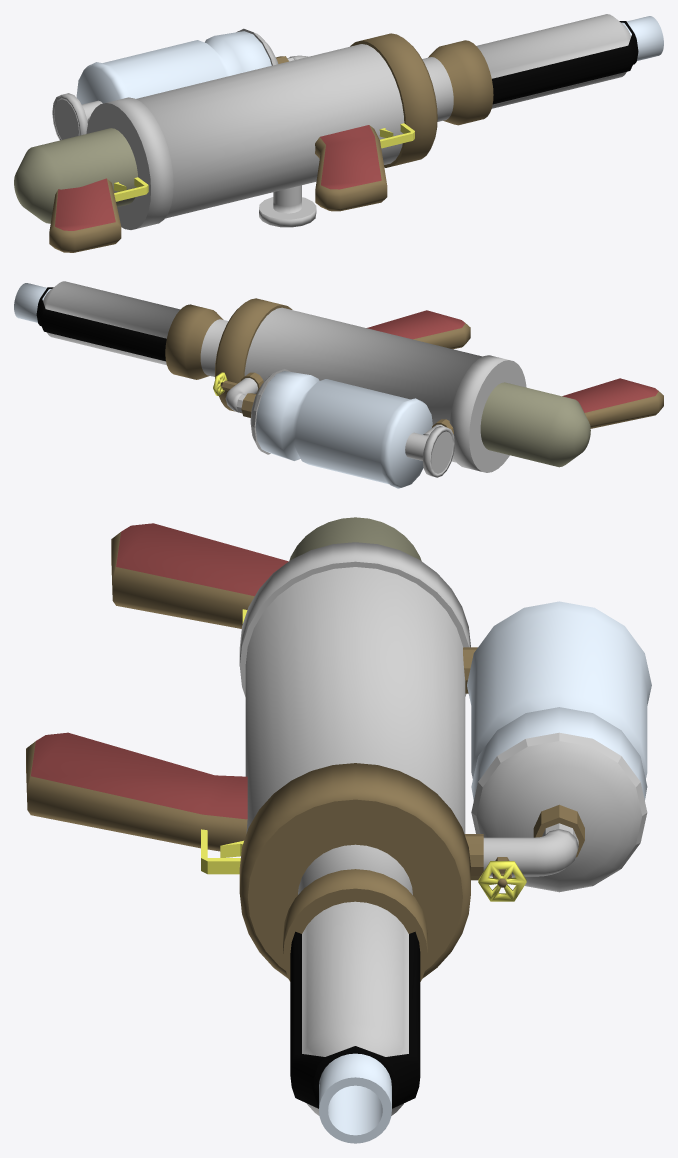
The model's file is flamethrower_.obj.
The picture shows the model from 3 angles, top to bottom: view 1: azimuth 30°, elevation 25°; view 2: azimuth 150°, elevation 25°; view 3: azimuth 270°, elevation 25°; orthographic projection. The views are drawn at different scales.
Parts seen in each view (by area): view 1: Circle.001, Circle.010, Circle.002, Circle.024, Cube, Circle.009, Circle.003, Circle.012, Circle.014, Circle.008; view 2: Circle.001, Circle.010, Circle.002, Cube, Circle.024, Circle.012, Circle.003, Circle.007, Circle.008, Circle.014; view 3: Circle.001, Circle.010, Circle.024, Circle.008, Cube, Circle.003, Circle.007, Circle.002, Circle.004.
Part boxes in pixels (x1,y1,x2,y2): Circle.001: (86,14,638,229); Circle.010: (76,31,271,104); Circle.002: (14,128,137,223); Circle.024: (315,123,414,211); Cube: (49,177,148,252); Circle.009: (259,185,316,227); Circle.003: (621,16,663,60); Circle.012: (52,93,102,140); Circle.014: (54,99,78,139); Circle.008: (236,28,294,65); Circle.001: (36,281,526,472); Circle.010: (255,371,432,488); Circle.002: (480,382,590,467); Cube: (562,378,663,428); Circle.024: (366,310,470,349); Circle.012: (405,426,454,477); Circle.003: (14,283,51,322); Circle.007: (225,372,453,435); Circle.008: (236,369,290,454); Circle.014: (431,431,452,473); Circle.001: (239,542,470,1115); Circle.010: (467,601,651,800); Circle.024: (26,732,247,874); Circle.008: (471,732,647,892); Cube: (111,523,288,628); Circle.003: (319,1053,391,1143); Circle.007: (463,647,578,880); Circle.002: (289,517,421,560); Circle.004: (478,861,526,901).
Size of the model in its own units: 2.19 by 0.4734 by 1.01.
